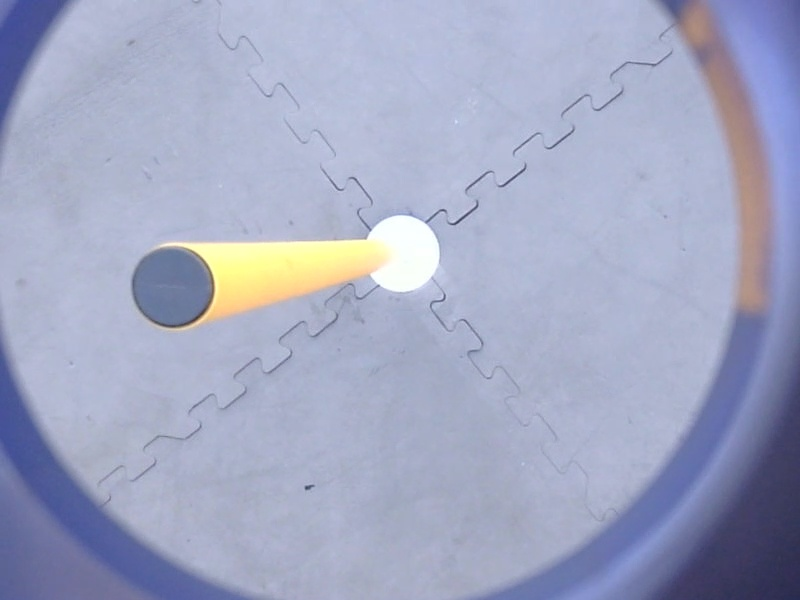tip: (121, 236, 224, 338)
